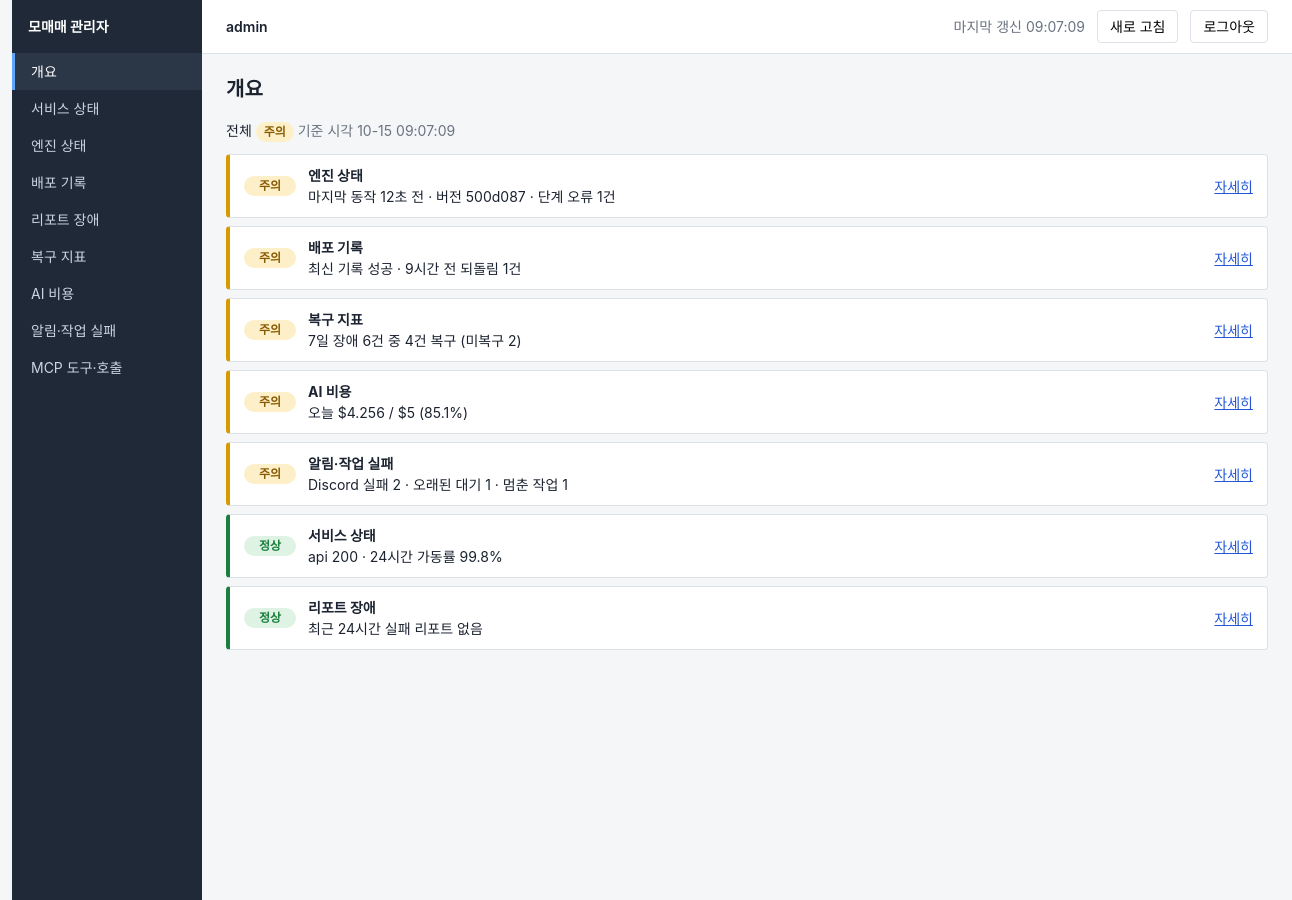
Test: 로그인 (F1) › 로그아웃하면 /login으로 간다
Click the button "로그아웃" at (1229, 26), box [1190,10,1268,43]
(page scrolled)
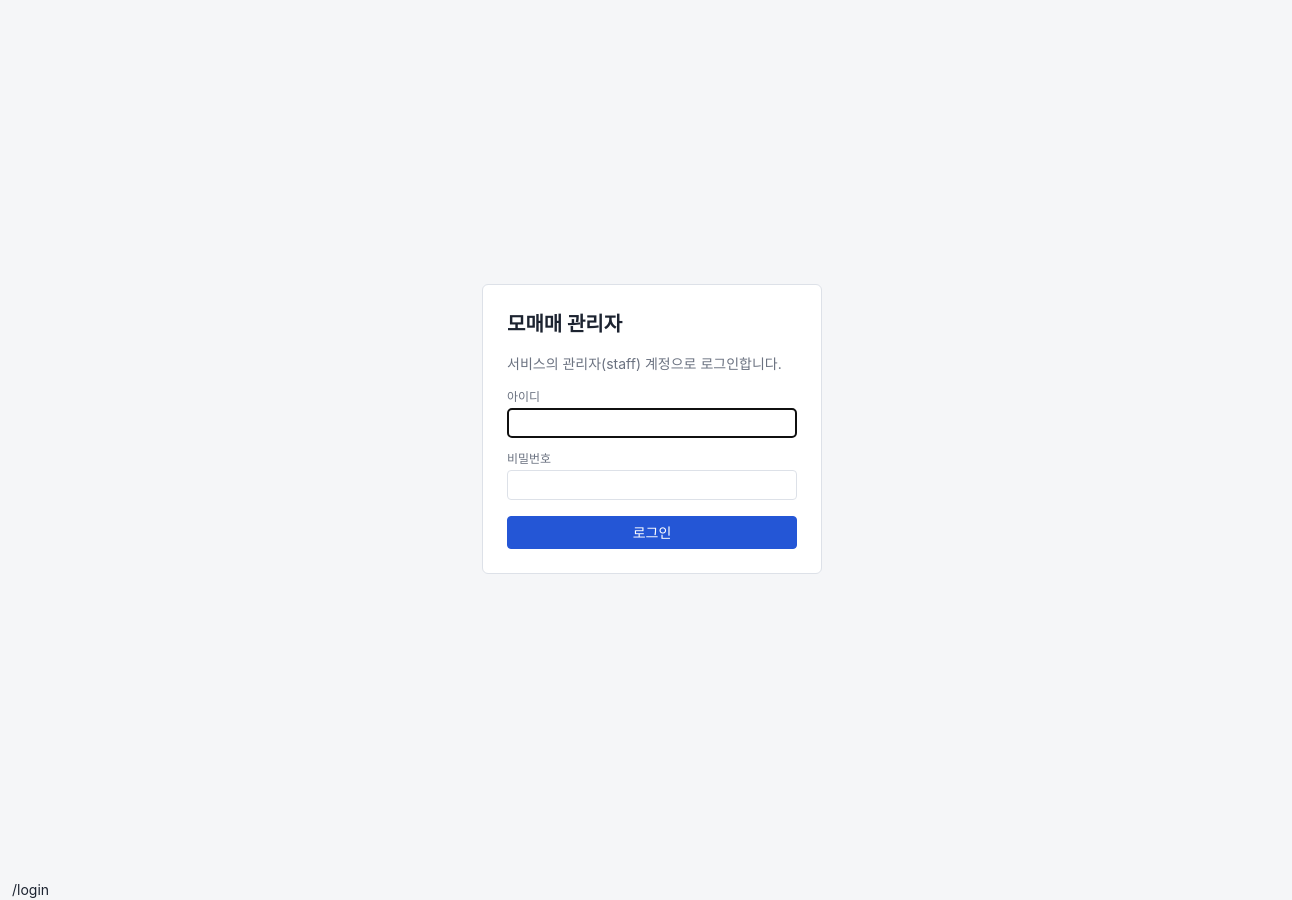
Check: the text with test id "location" reads "/login", box [12,881,49,898]
